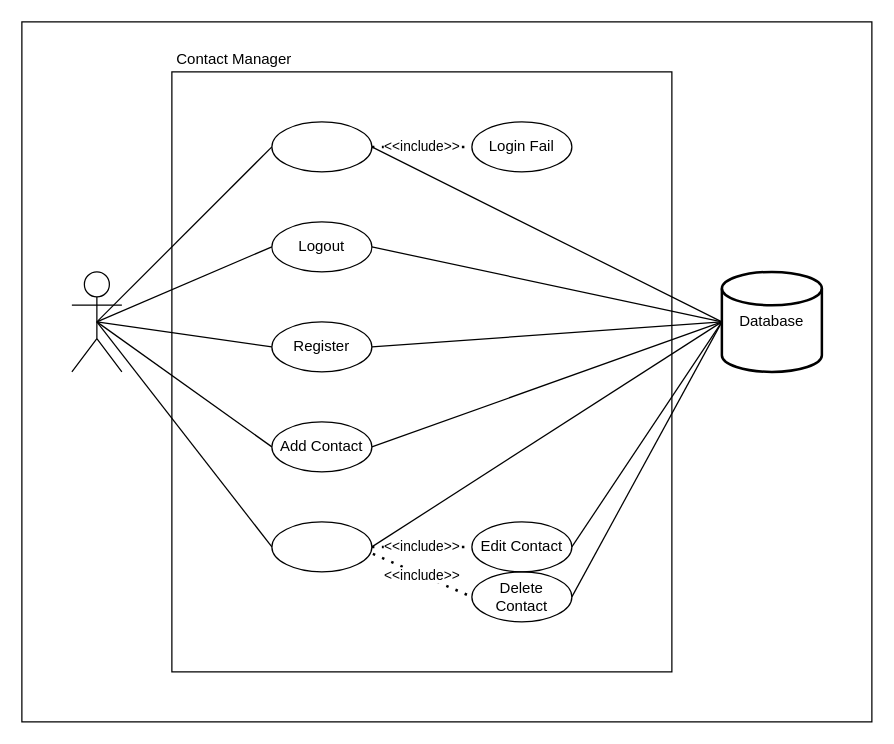
Some shapes in this 894 by 744 pixel diagram are drawn without their labels. Each missing label, with the centre of its shape:
Login: [321,146]
Search Contact: [321,546]
User: [96,321]
